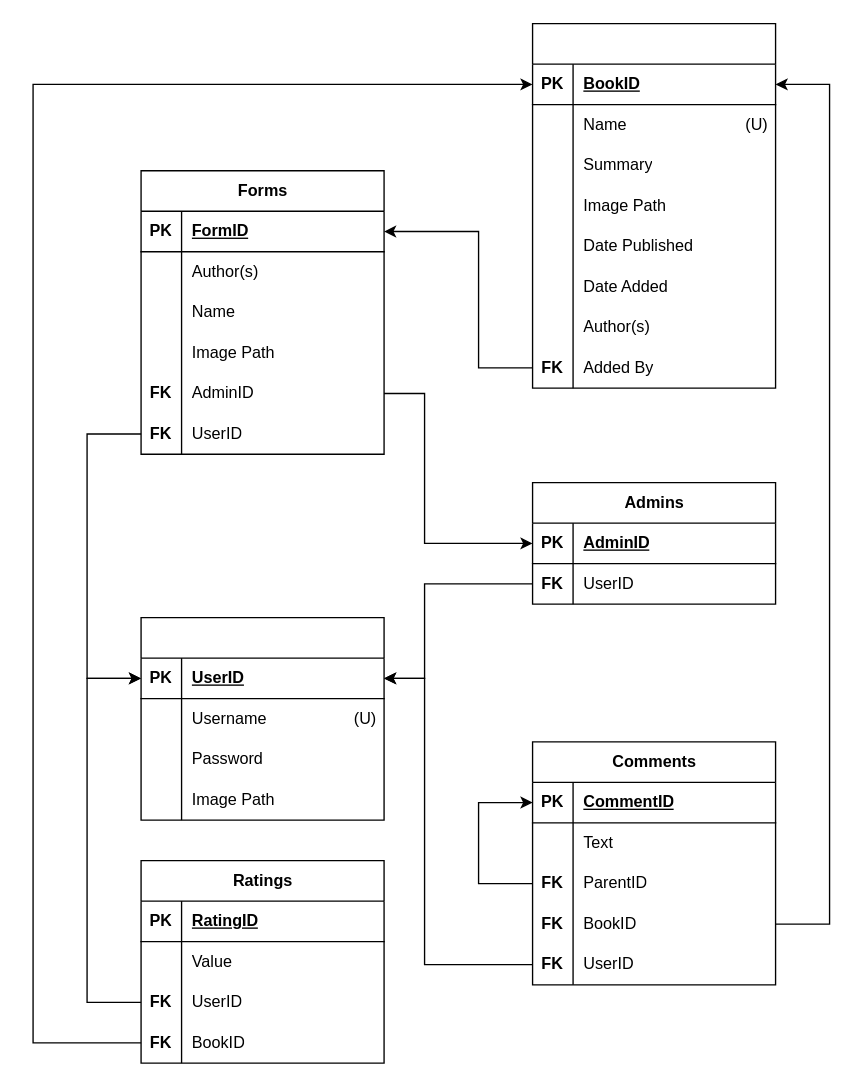
This 864x1087 diagram has some shape labels left out. The box of each missing label's shape, as (x1, y1, x2, y2) in pixels:
Books: (531, 22, 776, 388)
Users: (140, 616, 384, 820)
